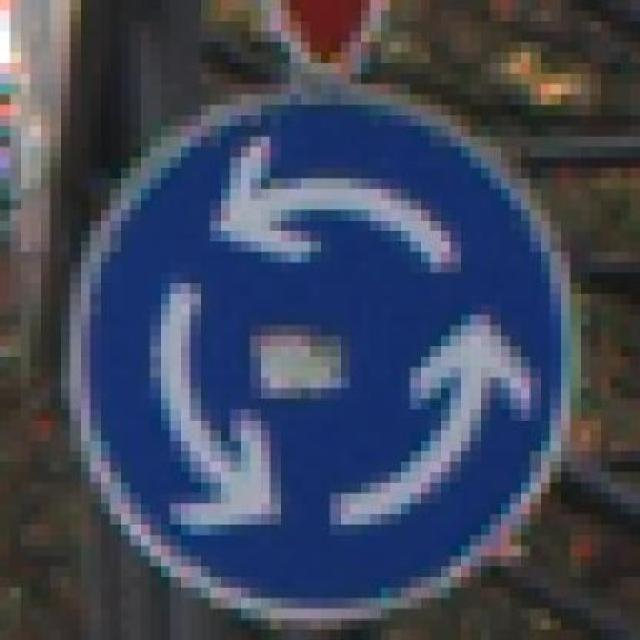Round-About: (40, 52, 631, 630)
